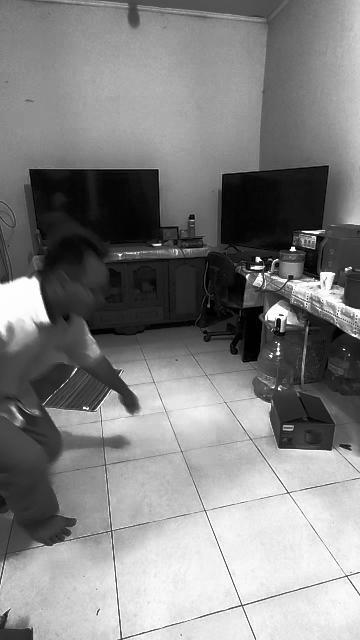jatuh: (3, 227, 137, 568)
